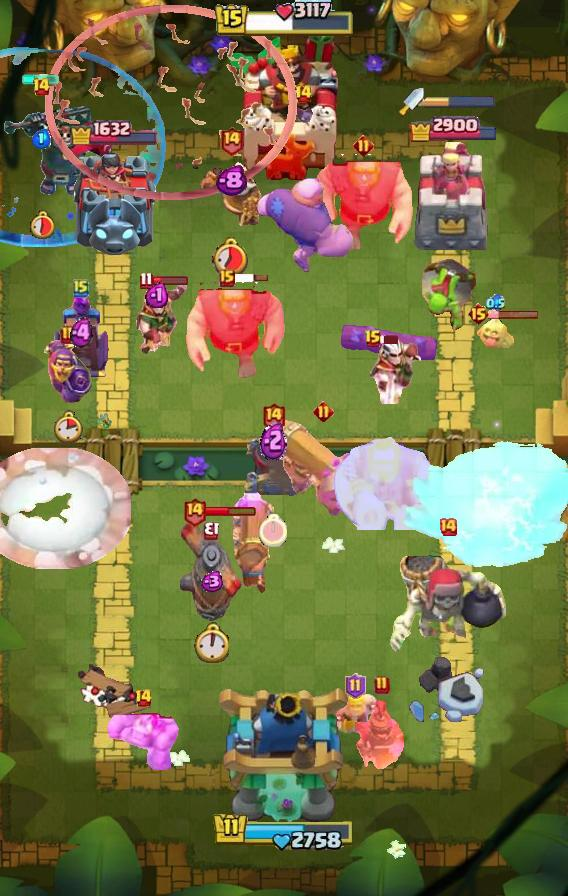archer: (331, 692, 379, 736)
balloon: (254, 176, 356, 276), (312, 154, 414, 252), (185, 282, 287, 380)
bar: (412, 140, 494, 256)
bar-level: (419, 254, 479, 330)
barbarian-barrel: (291, 99, 315, 125)
bat-evolution: (475, 313, 515, 351)
battle-healer: (232, 492, 278, 596)
clock: (212, 811, 356, 853), (213, 0, 355, 40)
dark-prince: (172, 512, 250, 624)
earthquake: (354, 699, 409, 773)
electro-giant: (387, 540, 509, 656)
electro-spirit: (260, 419, 287, 460), (215, 165, 247, 197), (70, 317, 93, 349), (145, 280, 168, 308), (198, 572, 224, 593), (33, 129, 52, 149), (486, 295, 505, 314)
elixir: (211, 236, 251, 278), (193, 622, 229, 663), (53, 410, 83, 444), (259, 514, 287, 546), (30, 210, 55, 238)
elixir-collector: (196, 159, 266, 233)
emote: (204, 505, 257, 517), (488, 308, 540, 319), (152, 274, 189, 286), (233, 273, 269, 283), (380, 334, 400, 345)
firecracker-evolution: (43, 340, 92, 405)
furnace: (268, 419, 378, 525)
giant-skeleton: (332, 436, 442, 530)
ice-spirit: (21, 74, 61, 86)
ice-spirit-evolution-symbol: (51, 287, 111, 379)
inferno-tower: (0, 97, 114, 197)
king-tower: (216, 684, 352, 826), (224, 23, 344, 181)
king-tower-bar: (424, 95, 496, 109)
mega-knight: (400, 438, 568, 574)
minion: (337, 323, 439, 371)
musketeer: (242, 432, 304, 500)
pad_0: (0, 45, 168, 247)
queen-tower: (71, 144, 157, 255)
selected: (409, 114, 500, 142), (68, 117, 159, 145)
skeleton-barrel: (45, 3, 297, 201)
skeleton-king: (122, 281, 190, 357), (351, 338, 425, 404)
text: (261, 401, 286, 432), (181, 497, 206, 528), (220, 125, 245, 155), (466, 302, 489, 326), (346, 673, 367, 699), (353, 135, 375, 156), (314, 401, 335, 422), (438, 517, 458, 537), (134, 688, 154, 708), (33, 77, 52, 97), (294, 84, 313, 104), (364, 329, 382, 349), (73, 278, 89, 298), (60, 325, 76, 345), (374, 675, 390, 695), (219, 269, 235, 287), (138, 271, 153, 289)
valkyrie-evolution: (106, 712, 181, 772)
wall-breaker: (0, 447, 131, 568)
